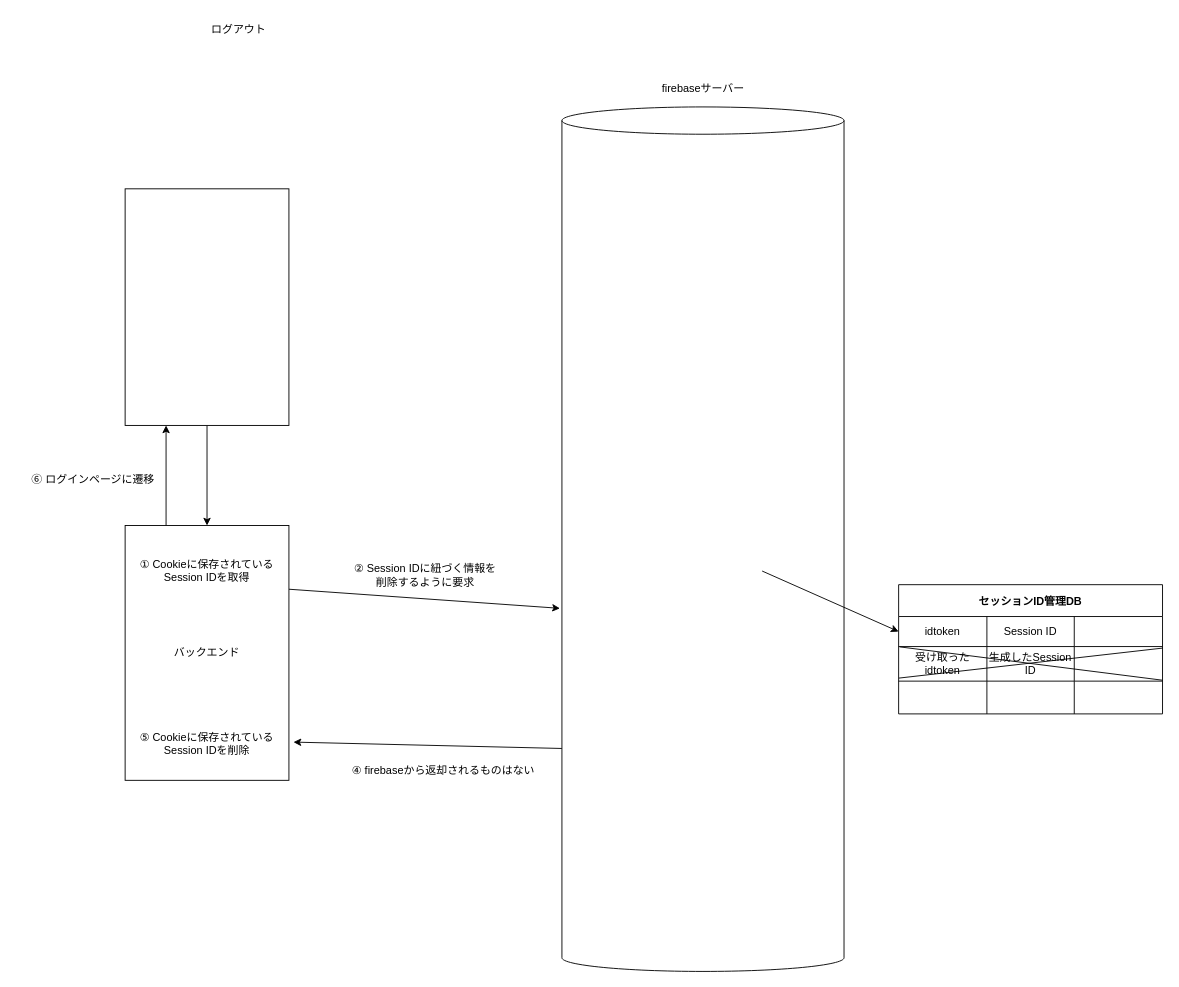
The diagram is 1179 pixels wide and 987 high, and some of its shapes have lost their labels. The centre of each missing label's shape, as x and y in pixels:
③ Session IDに対応したユーザー情報(idtoken)を検索して削除: (x=702, y=538)
フロントエンド: (x=206, y=306)
